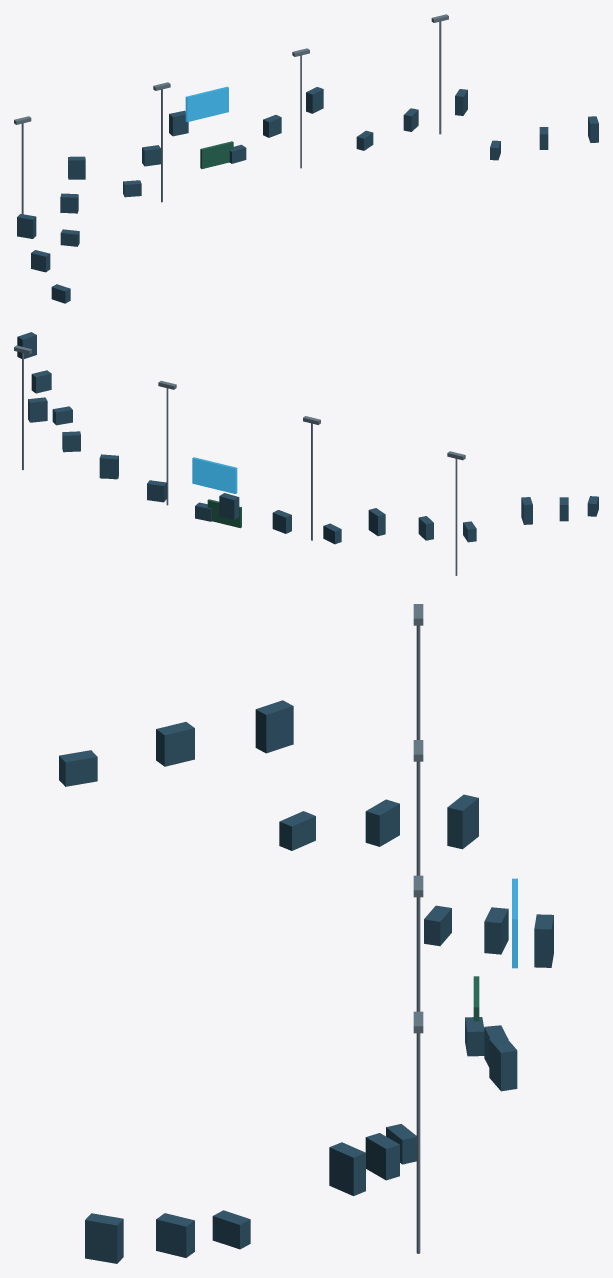
Rendered from generic_stadium-low.glb.
3 views of the same model, one above another, from view 1: azimuth 30°, elevation 25°; view 2: azimuth 150°, elevation 25°; view 3: azimuth 270°, elevation 25° (orthographic). The views are drawn at different scales.
Parts seen in each view (by area): view 1: CenterScoreboard, BatterEye, Stand_2, Stand_8, Stand_5, Stand_11, Stand_1; view 2: CenterScoreboard, Stand_8, Stand_11, Stand_14, Stand_5, BatterEye, Stand_16, Stand_10, Stand_7, Stand_13, Stand_17, LightPole_2 (+3 smaller); view 3: Stand_17, Stand_2, Stand_14, Stand_5, Stand_1, Stand_16, Stand_11, Stand_4, Stand_13, Stand_0, Stand_15, Stand_3 (+4 smaller).
Part boxes in pixels (x1,y1,x2,y2): CenterScoreboard: (185,86,228,122); BatterEye: (200,141,233,168); Stand_2: (17,214,36,238); Stand_8: (169,110,188,136); Stand_5: (68,156,85,179); Stand_11: (306,87,323,113); Stand_1: (31,250,50,272); CenterScoreboard: (192,457,237,493); Stand_8: (219,493,239,519); Stand_11: (99,454,118,479); Stand_14: (28,397,47,422); Stand_5: (368,508,385,536); BatterEye: (207,499,241,528); Stand_16: (31,370,51,393); Stand_10: (147,480,166,502); Stand_7: (272,510,291,533); Stand_13: (62,431,80,452); Stand_17: (17,332,36,358); LightPole_2: (166,388,168,505); Stand_17: (85,1213,123,1263); Stand_2: (255,700,293,753); Stand_14: (329,1142,365,1195); Stand_5: (447,794,478,849); Stand_1: (156,722,194,766); Stand_16: (156,1213,194,1257); Stand_11: (489,1036,517,1091); Stand_4: (365,799,399,846); Stand_13: (365,1133,399,1180); Stand_0: (59,750,97,786); Stand_15: (212,1210,250,1249); Stand_3: (279,811,315,850).
Size of the model in its own units: 660 by 134 by 257.
